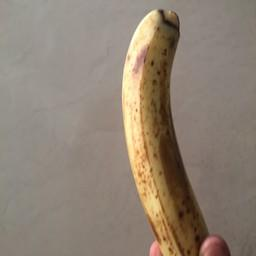Bad_banana: (123, 6, 221, 256)
